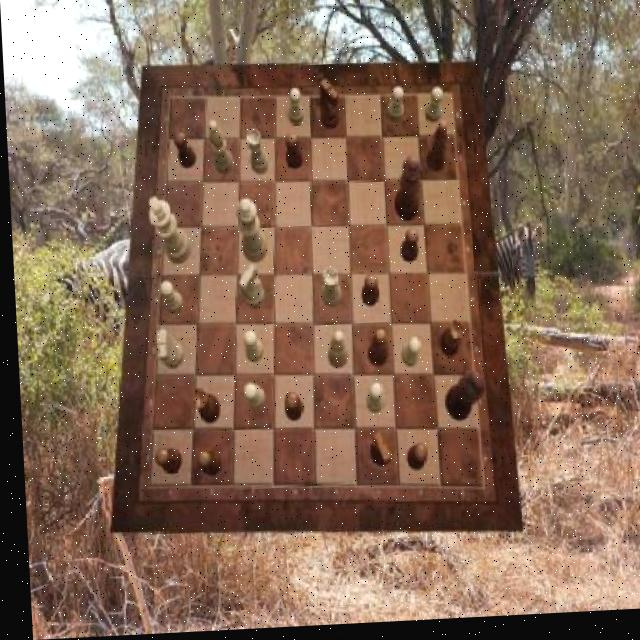bishop: (422, 125, 448, 177), (363, 333, 385, 371)
black-bishop: (439, 375, 481, 427)
black-king: (318, 82, 339, 134), (364, 434, 387, 470)
black-knight: (171, 134, 194, 173), (150, 449, 178, 476), (191, 452, 217, 479), (396, 233, 416, 267), (283, 136, 301, 173), (357, 279, 376, 312), (401, 448, 423, 475), (279, 396, 299, 425)
black-pawn: (390, 162, 422, 227)
black-queen: (185, 389, 214, 426), (436, 324, 462, 362)
black-rook: (207, 121, 232, 176), (323, 333, 345, 371)
white-bishop: (145, 198, 188, 267)
white-king: (234, 265, 261, 310), (154, 330, 180, 371)
white-knight: (155, 282, 179, 317), (422, 92, 443, 128), (238, 333, 260, 366), (384, 90, 403, 127), (360, 387, 381, 418), (285, 91, 302, 129), (396, 342, 417, 371), (240, 385, 262, 412)
white-pawn: (233, 200, 265, 265)
white-queen: (245, 131, 268, 177), (316, 271, 338, 312)
